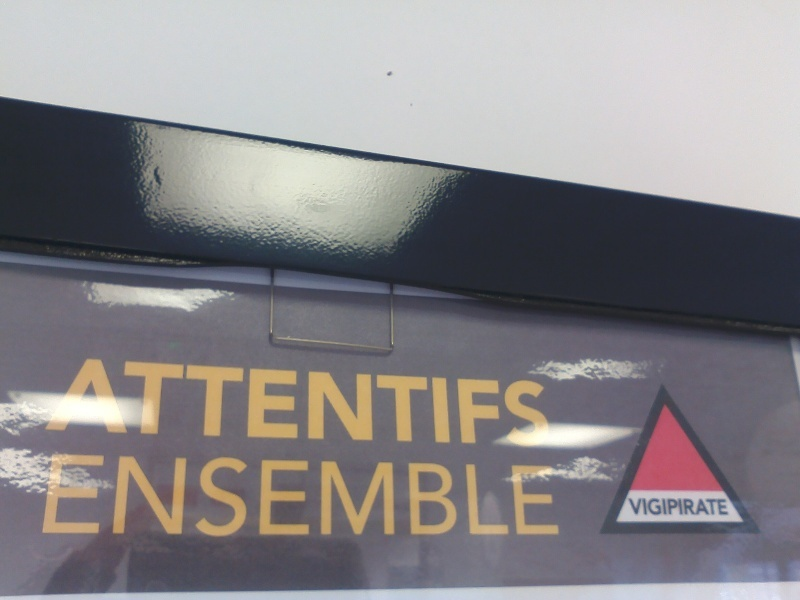text: (97, 356, 112, 450), (113, 356, 128, 450), (129, 356, 144, 450), (145, 356, 160, 450), (161, 356, 176, 450), (177, 356, 192, 450), (193, 356, 208, 450), (209, 356, 224, 450), (225, 356, 240, 450), (241, 356, 256, 450), (257, 356, 272, 450), (273, 356, 288, 450), (289, 356, 304, 450), (305, 356, 320, 450), (321, 356, 336, 450), (337, 356, 352, 450), (353, 356, 368, 450), (369, 356, 384, 450), (385, 356, 400, 450), (401, 356, 416, 450), (417, 356, 432, 450), (433, 356, 448, 450), (449, 356, 464, 450), (465, 356, 480, 450), (481, 356, 496, 450), (497, 356, 512, 450), (513, 356, 528, 450), (529, 356, 544, 450), (545, 452, 561, 539), (49, 452, 64, 539), (65, 452, 80, 539), (81, 452, 96, 539), (97, 452, 112, 539), (113, 452, 128, 539), (129, 452, 144, 539), (145, 452, 160, 539), (161, 452, 176, 539), (177, 452, 192, 539), (193, 452, 208, 539), (209, 452, 224, 539), (225, 452, 240, 539), (241, 452, 256, 539), (257, 452, 272, 539), (273, 452, 288, 539), (289, 452, 304, 539), (305, 452, 320, 539), (321, 452, 336, 539), (337, 452, 352, 539), (353, 452, 368, 539), (369, 452, 384, 539), (385, 452, 400, 539), (401, 452, 416, 539), (417, 452, 432, 539), (433, 452, 448, 539), (449, 452, 464, 539), (465, 452, 480, 539), (481, 452, 496, 539), (497, 452, 512, 539), (513, 452, 528, 539), (529, 452, 544, 539), (87, 356, 96, 450), (545, 356, 550, 450), (641, 497, 656, 517), (657, 497, 672, 517), (673, 497, 688, 517), (689, 497, 704, 517), (705, 497, 720, 517), (628, 497, 640, 517), (721, 497, 730, 517)
